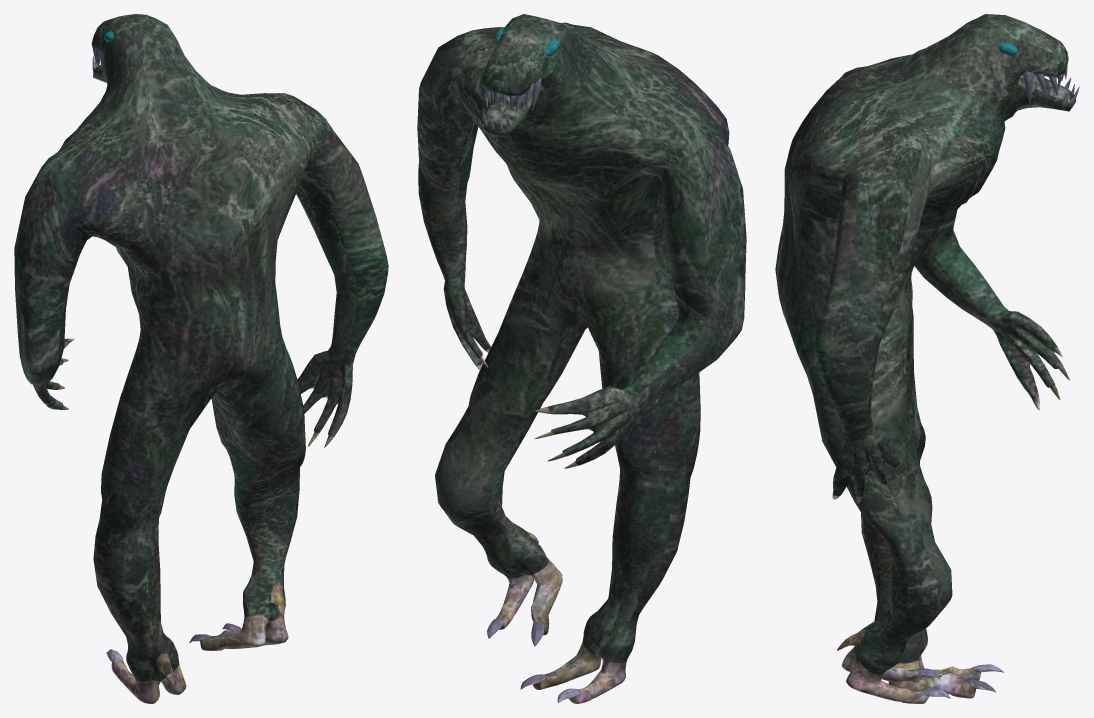
Rendered from Andar.0017.obj.
The picture shows the model from 3 angles, left to right: view 1: azimuth 30°, elevation 25°; view 2: azimuth 150°, elevation 25°; view 3: azimuth 270°, elevation 25°; orthographic projection. The views are drawn at different scales.
Visible parts, largest first — view 1: polySurface28; view 2: polySurface28; view 3: polySurface28.
Part boxes in pixels (bbox=[...]): polySurface28: bbox=[14, 14, 388, 703]; polySurface28: bbox=[417, 14, 746, 703]; polySurface28: bbox=[775, 14, 1079, 703].
Size of the model in its own units: 1.24 by 2.34 by 0.9461.
4 materials, 4 textured.
